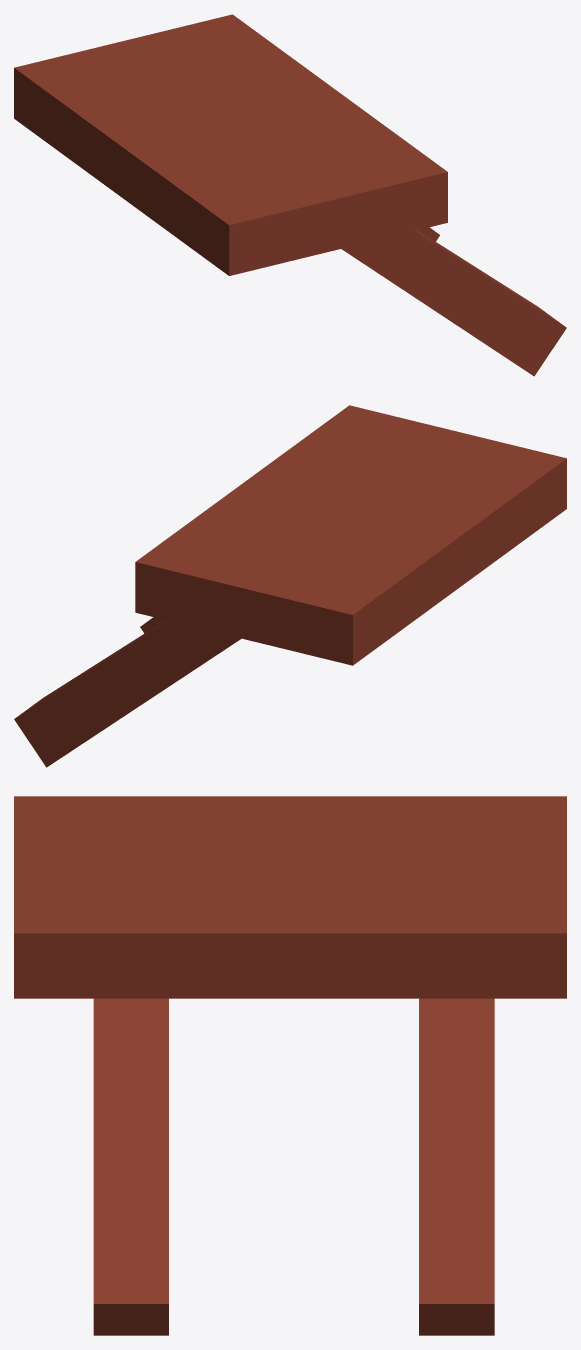
The model's file is shelf_2a.fbx.
3 views of the same model, one above another, from view 1: azimuth 30°, elevation 25°; view 2: azimuth 150°, elevation 25°; view 3: azimuth 270°, elevation 25° (orthographic). The views are drawn at different scales.
Visible parts, largest first — view 1: shelf_2a; view 2: shelf_2a; view 3: shelf_2a.
Boxes of the visible parts, x1,y1,x2,y2 form: shelf_2a: (14, 14, 566, 376); shelf_2a: (14, 405, 566, 767); shelf_2a: (14, 796, 566, 1335).
Size of the model in its own units: 48.08 by 31.9 by 48.6.
